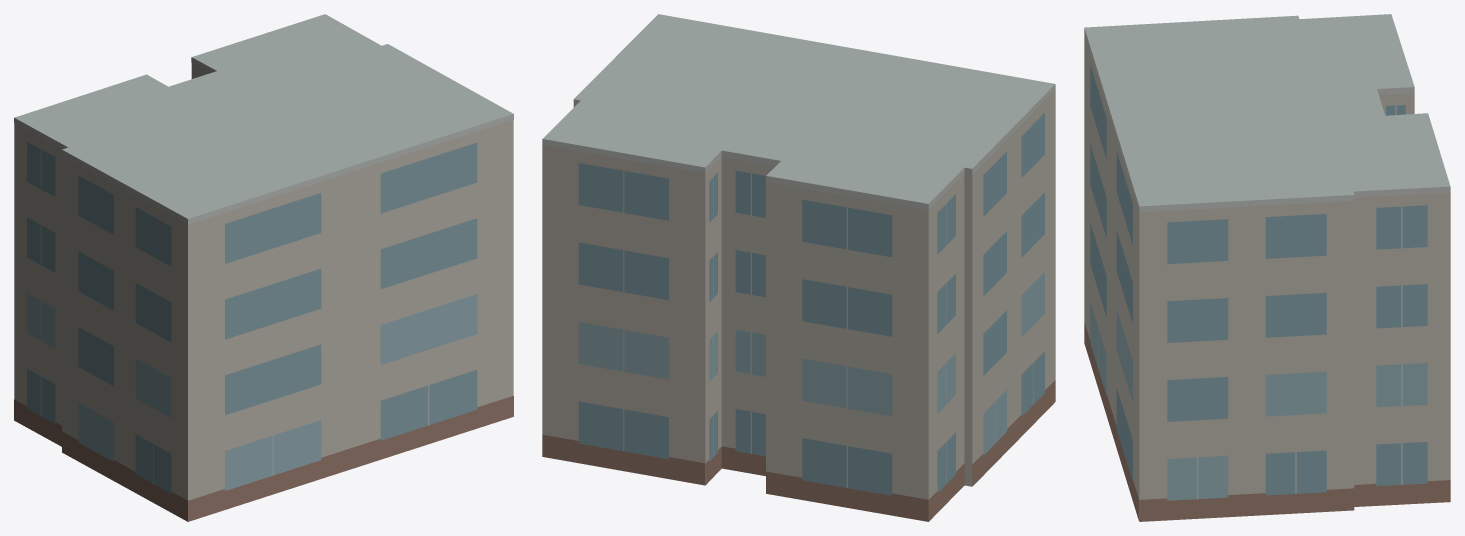
File: survey-upis-32911226.glb
The picture shows the model from 3 angles, left to right: view 1: azimuth 30°, elevation 25°; view 2: azimuth 150°, elevation 25°; view 3: azimuth 270°, elevation 25°; orthographic projection. The views are drawn at different scales.
Parts seen in each view (by area): view 1: survey-upis-32911226.tmp; view 2: survey-upis-32911226.tmp; view 3: survey-upis-32911226.tmp.
Boxes of the visible parts, box(x1,y1,x2,y2) form: survey-upis-32911226.tmp: box(14, 14, 513, 521); survey-upis-32911226.tmp: box(542, 14, 1055, 521); survey-upis-32911226.tmp: box(1084, 14, 1450, 521).
Size of the model in its own units: 17.02 by 13 by 13.69.
